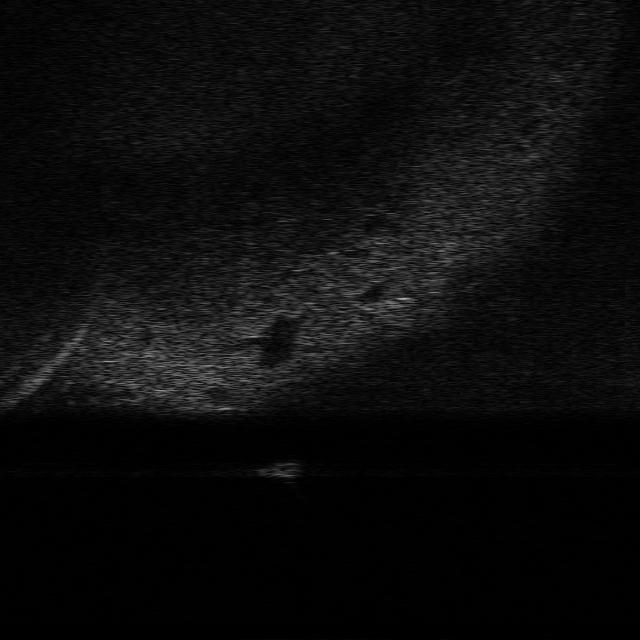cube: (256, 454, 302, 479)
